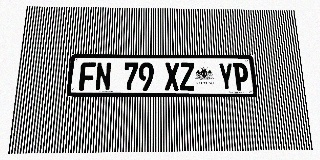7: (123, 62, 138, 91)
9: (139, 62, 154, 91)
F: (79, 62, 96, 91)
N: (95, 62, 112, 91)
P: (233, 63, 249, 91)
X: (164, 63, 180, 91)
Y: (218, 63, 234, 91)
Z: (180, 63, 195, 91)
